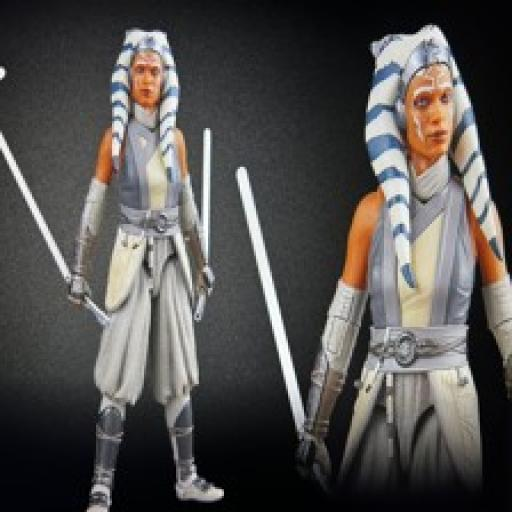human: (289, 19, 508, 512), (62, 25, 224, 512)
lightsaber: (237, 162, 335, 488), (0, 131, 113, 326), (191, 124, 214, 327)
